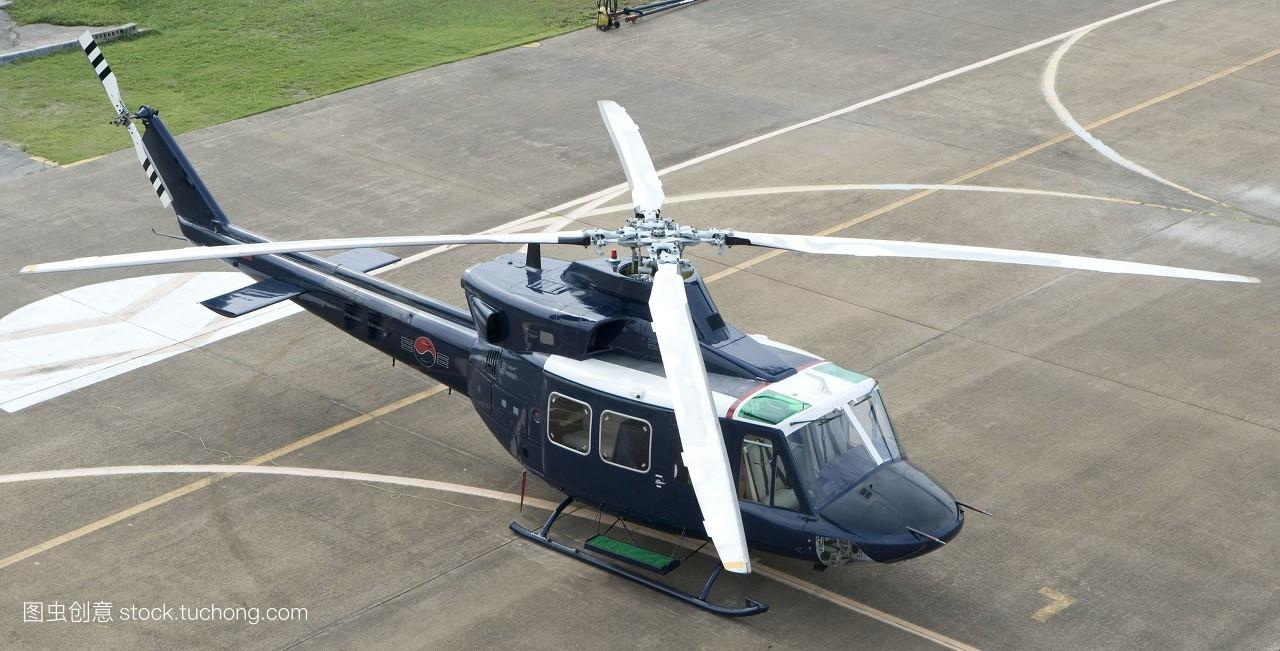airplane: (22, 24, 1261, 612)
